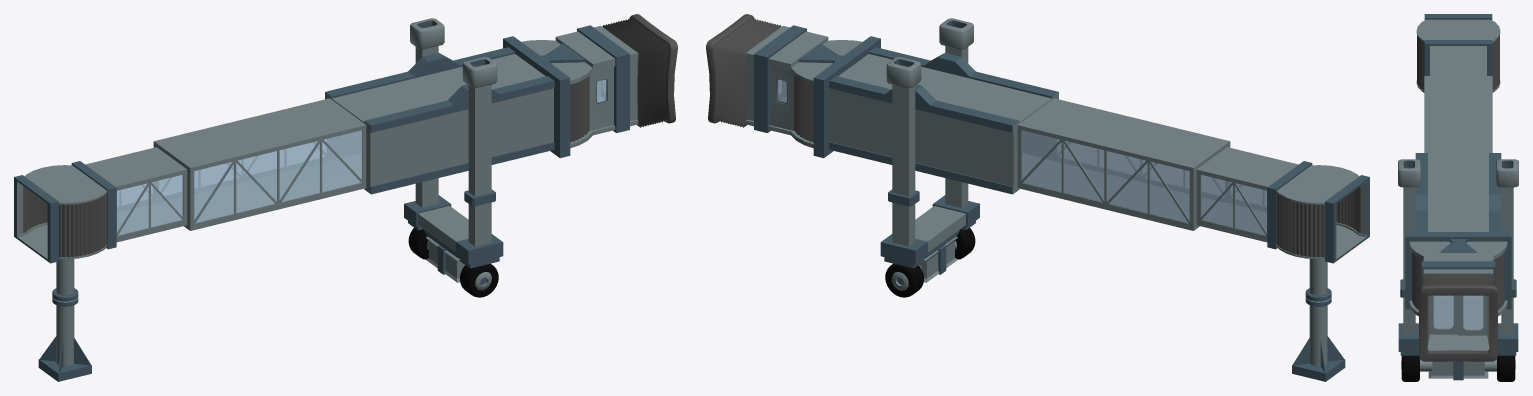
File: passenger-boarding-bridge.glb
3 renders of one model, left to right at view 1: azimuth 30°, elevation 25°; view 2: azimuth 150°, elevation 25°; view 3: azimuth 270°, elevation 25°, orthographic. The views are drawn at different scales.
Visible parts, largest first — view 1: 06.Tunnel_AIRPORT_0; view 2: 06.Tunnel_AIRPORT_0; view 3: 06.Tunnel_AIRPORT_0.
Boxes of the visible parts, x1,y1,x2,y2 form: 06.Tunnel_AIRPORT_0: [14, 14, 677, 381]; 06.Tunnel_AIRPORT_0: [706, 14, 1369, 381]; 06.Tunnel_AIRPORT_0: [1398, 14, 1518, 381].
Bounding box in the file's own units: 30.21 × 10.72 × 5.44.
Materials: 1 (1 with a texture image).
